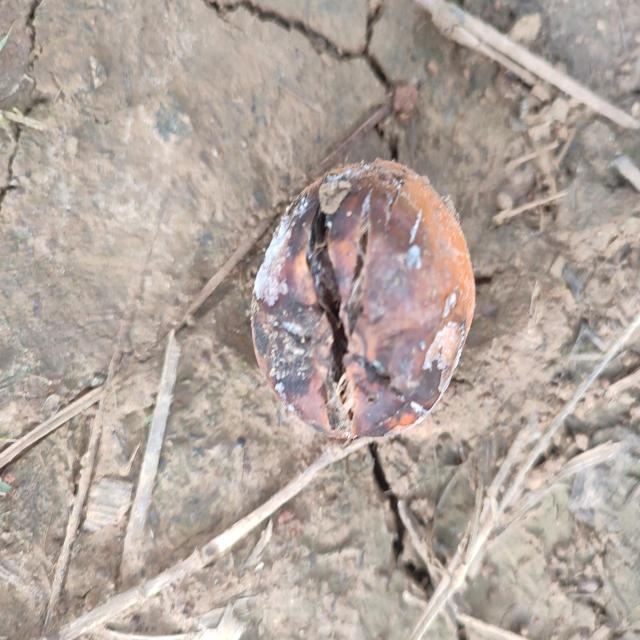damaged: (249, 159, 477, 442)
